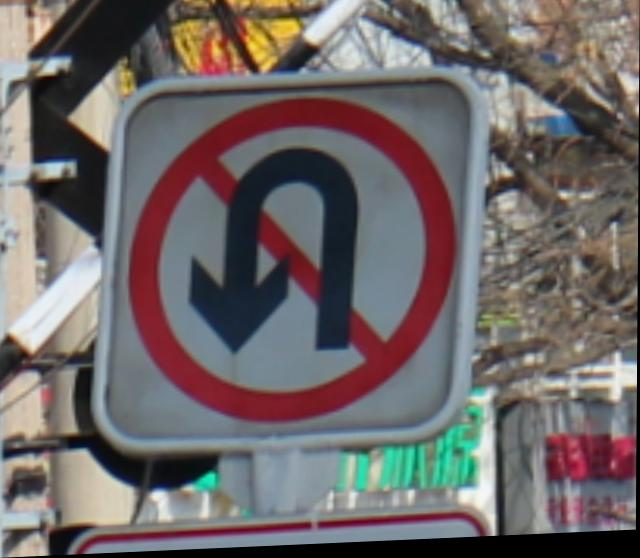not_u_turn_left: (138, 88, 453, 430)
